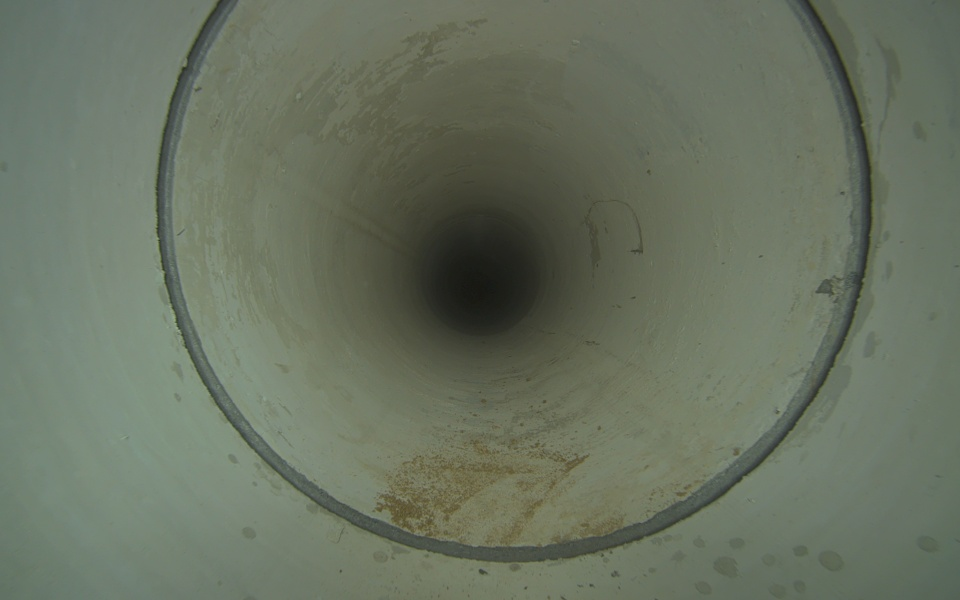circle1: (153, 0, 873, 562)
circle2: (453, 259, 505, 312)
